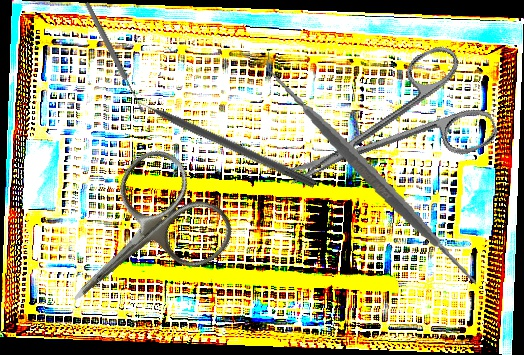Iris Scissors: (30, 137, 245, 348), (264, 38, 502, 224)
Pusher: (122, 89, 318, 189)
Spatula Surgical: (244, 51, 499, 300)
Surgical Spoon: (83, 1, 146, 114)
